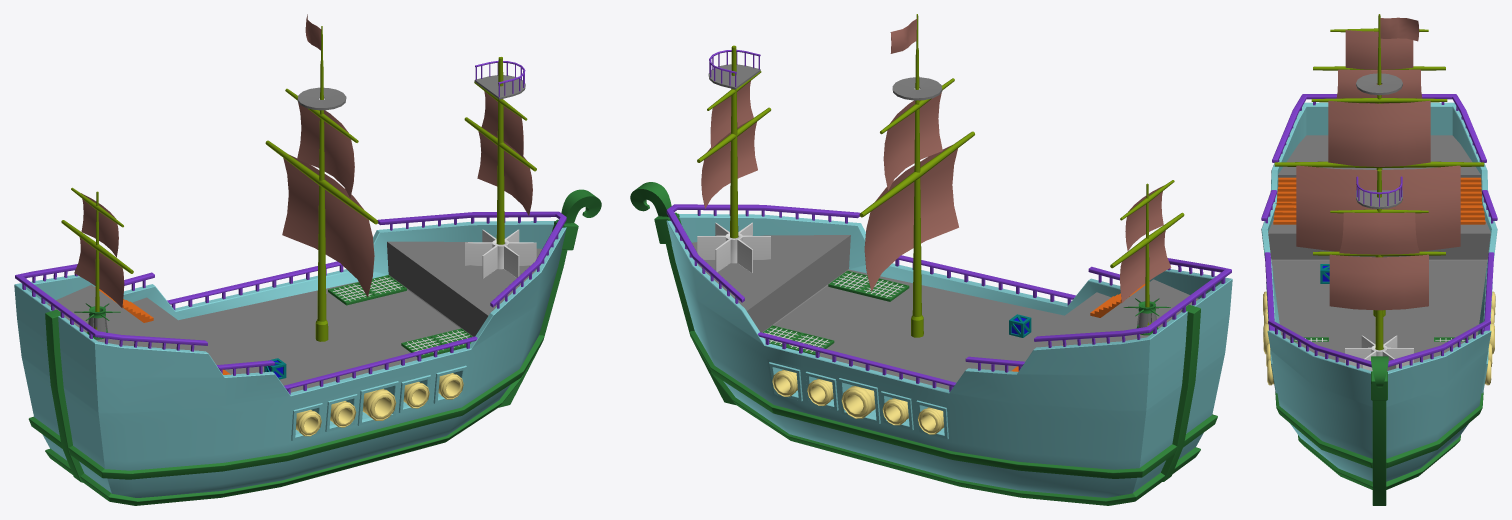
The model's file is Ship.fbx.
The picture shows the model from 3 angles, left to right: view 1: azimuth 30°, elevation 25°; view 2: azimuth 150°, elevation 25°; view 3: azimuth 270°, elevation 25°; orthographic projection. The views are drawn at different scales.
Visible parts, largest first — view 1: Cylinder053, Object369, Object371, Plane004, Object366, Object367, Object346, Plane002, Object330, Object336, Object340, Object334 (+13 smaller); view 2: Cylinder053, Object369, Object371, Plane004, Object366, Object367, Object346, Plane002, Object330, Object336, Object340, Object334 (+13 smaller); view 3: Cylinder053, Object369, Plane004, Plane002, Plane005, Plane003, Object370, Object336, Plane007, Object324, Object366, Object340 (+23 smaller).
Boxes of the visible parts, left/top/right/bottom form: Cylinder053: left=14, top=221, right=566, bottom=497; Object369: left=178, top=281, right=460, bottom=392; Object371: left=387, top=241, right=541, bottom=336; Plane004: left=282, top=154, right=374, bottom=297; Object366: left=28, top=335, right=544, bottom=479; Object367: left=45, top=375, right=523, bottom=505; Object346: left=45, top=221, right=567, bottom=482; Plane002: left=297, top=102, right=354, bottom=198; Object330: left=167, top=261, right=477, bottom=394; Object336: left=47, top=285, right=176, bottom=349; Object340: left=377, top=211, right=566, bottom=308; Object334: left=15, top=264, right=207, bottom=351; Cylinder053: left=666, top=214, right=1232, bottom=497; Object369: left=773, top=269, right=1064, bottom=389; Object371: left=692, top=235, right=850, bottom=332; Plane004: left=864, top=145, right=958, bottom=291; Object366: left=689, top=331, right=1217, bottom=478; Object367: left=711, top=372, right=1200, bottom=505; Object346: left=666, top=213, right=1200, bottom=481; Plane002: left=883, top=92, right=942, bottom=190; Object330: left=758, top=255, right=1075, bottom=391; Object336: left=1066, top=279, right=1198, bottom=345; Object340: left=666, top=204, right=860, bottom=303; Object334: left=1034, top=258, right=1231, bottom=347; Cylinder053: left=1261, top=102, right=1497, bottom=481; Object369: left=1271, top=260, right=1487, bottom=341; Plane004: left=1296, top=165, right=1460, bottom=251; Plane002: left=1328, top=100, right=1430, bottom=166; Plane005: left=1329, top=254, right=1428, bottom=310; Plane003: left=1339, top=212, right=1419, bottom=254; Object370: left=1268, top=219, right=1490, bottom=260; Object336: left=1278, top=135, right=1481, bottom=177; Plane007: left=1345, top=30, right=1413, bottom=69; Object324: left=1273, top=177, right=1485, bottom=224; Object366: left=1275, top=392, right=1483, bottom=468; Object340: left=1268, top=320, right=1490, bottom=368.
Size of the model in its own units: 9402 by 3634 by 6873.
